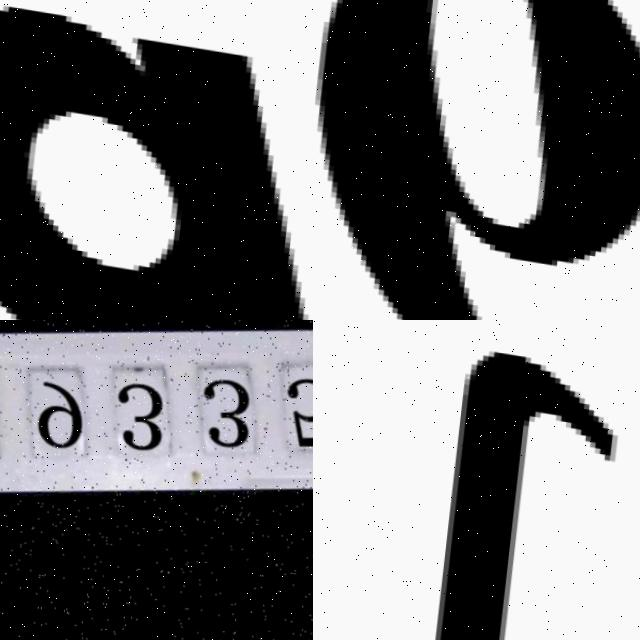3: (98, 361, 176, 469), (186, 359, 263, 461)
5: (268, 355, 313, 460)
6: (313, 0, 640, 320)
9: (16, 361, 95, 467)
D: (0, 0, 313, 320)
T: (335, 328, 639, 640)
